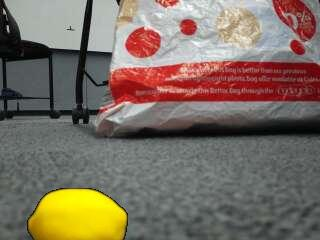lemon: (27, 190, 126, 240)
